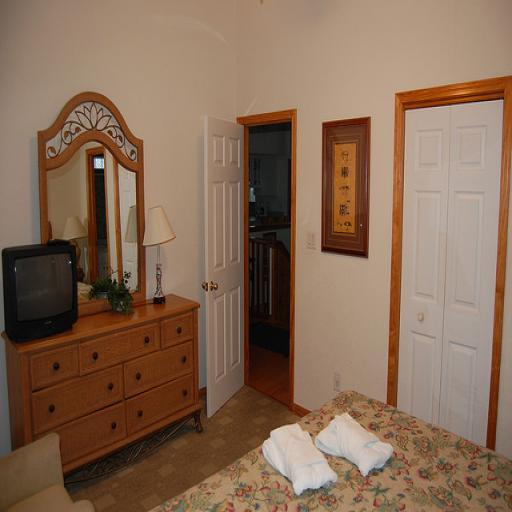bed: (108, 372, 511, 512)
